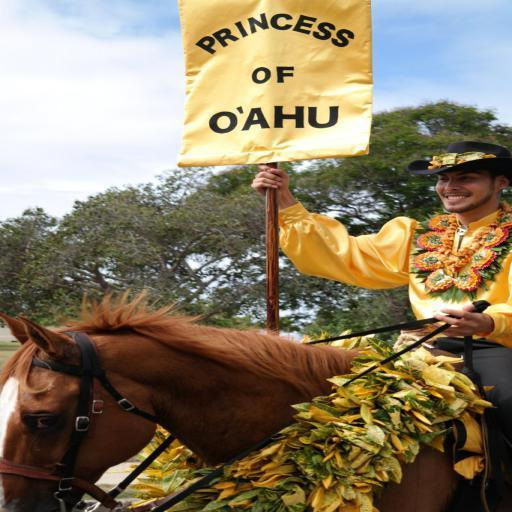horse: (0, 287, 463, 512)
